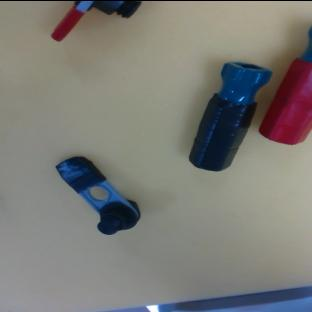part_1_bad: (53, 140, 147, 244)
part_2_bad: (184, 52, 273, 179)
part_2_good: (259, 26, 312, 144)
